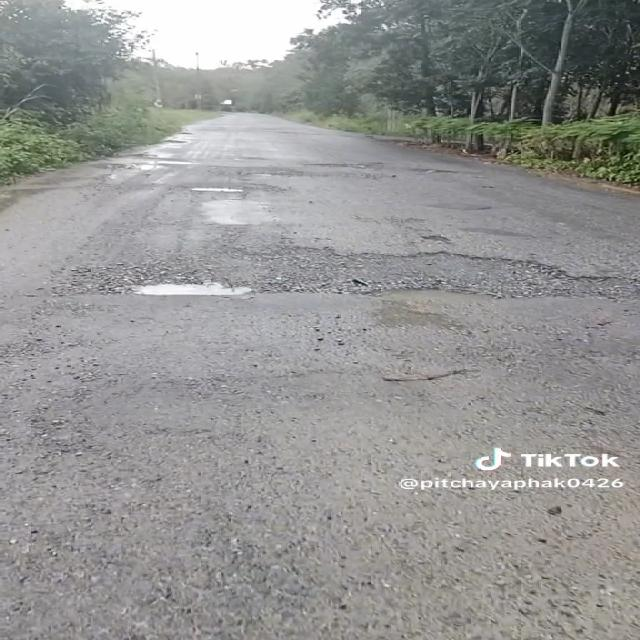Poth-hole: (152, 222, 264, 356)
